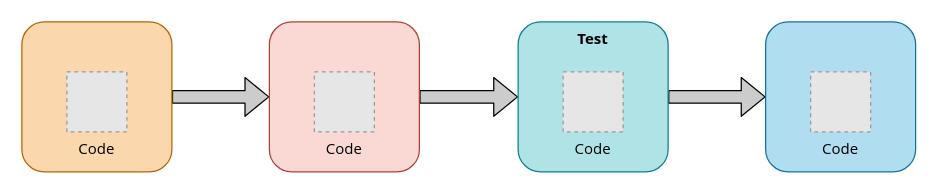
Image size: 938x194. Some labels were removed from this diagram. Grey dashed boxes stand in for pictures. Each missing label, with the box of its shape:
CI/CD: (268, 21, 419, 172)
Local Machine: (21, 21, 172, 172)
Production: (764, 21, 916, 172)
